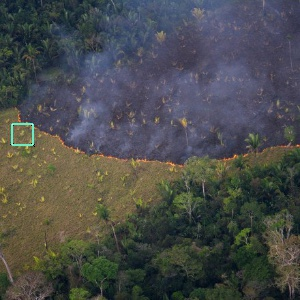square: (9, 120, 36, 148)
